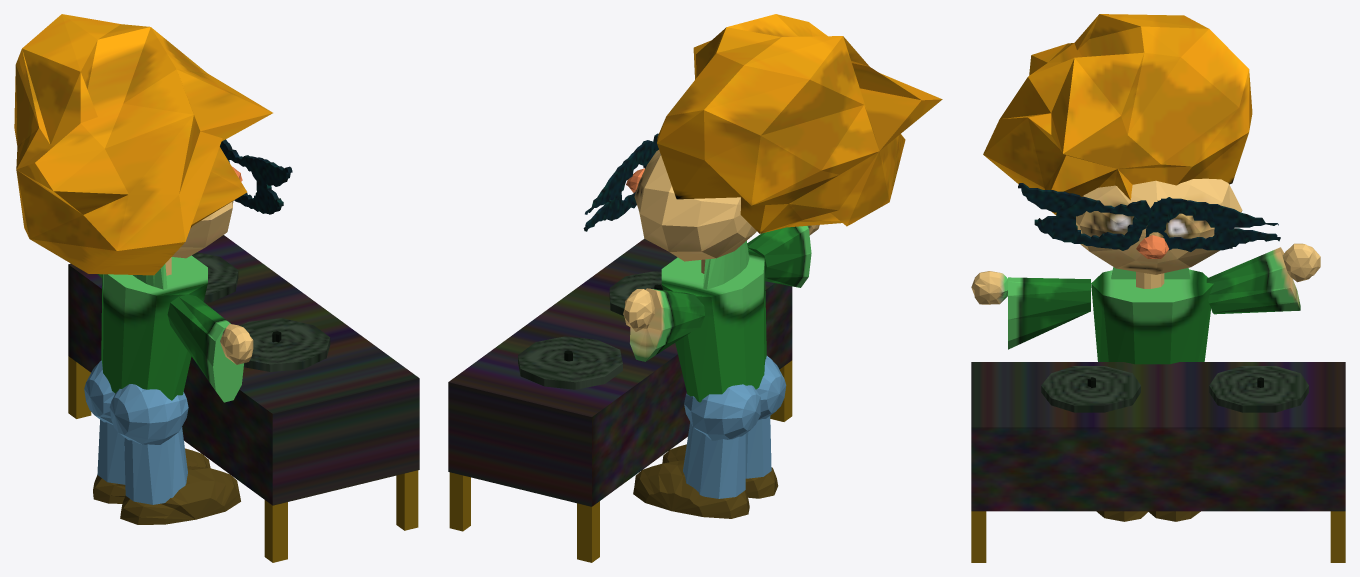
3 renders of one model, left to right at view 1: azimuth 30°, elevation 25°; view 2: azimuth 150°, elevation 25°; view 3: azimuth 270°, elevation 25°, orthographic. The views are drawn at different scales.
Visible parts, largest first — view 1: DJ; view 2: DJ; view 3: DJ.
Boxes of the visible parts, x1,y1,x2,y2 form: DJ: [14, 14, 419, 562]; DJ: [448, 14, 942, 562]; DJ: [971, 14, 1345, 562].
Size of the model in its own units: 132 by 180 by 140.
1 material, 1 textured.
